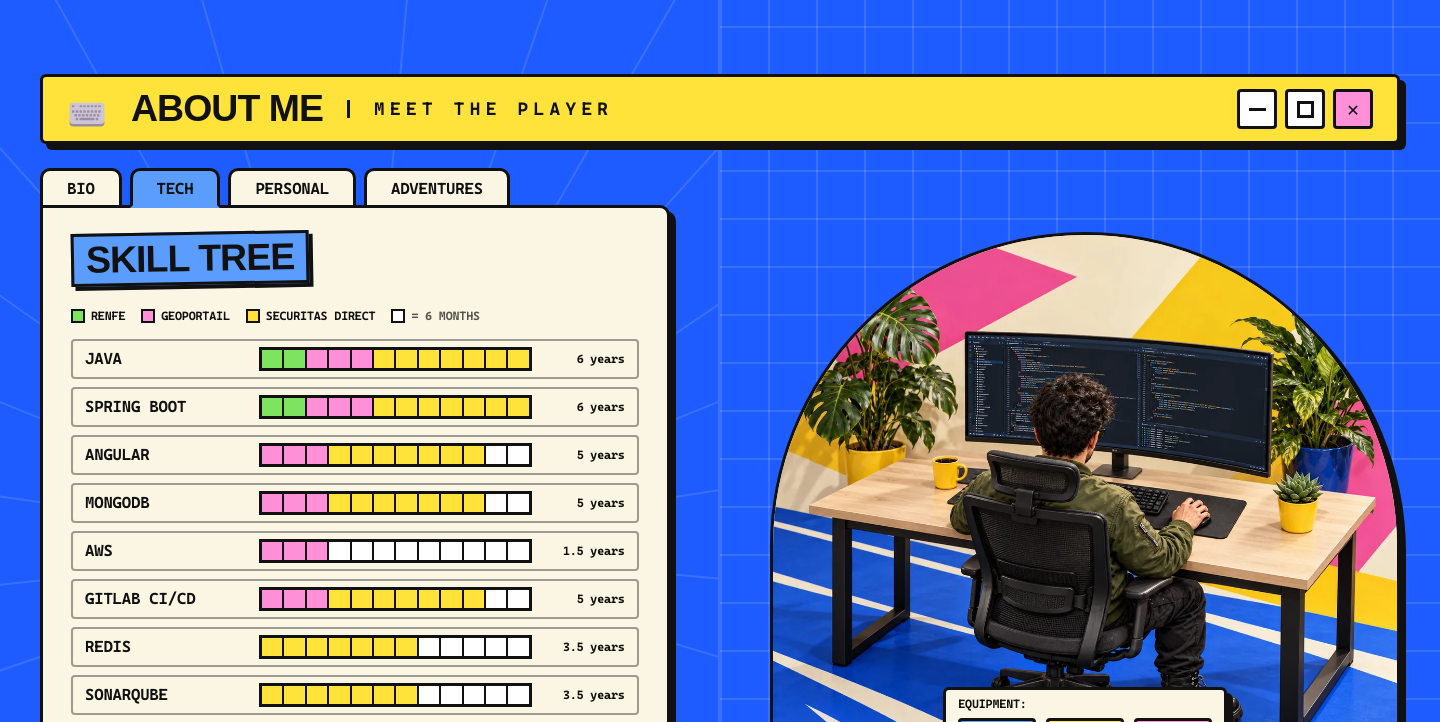
Test: opens on tech and switches panels from a tab click
Expected: the text "Java" is shown, [85, 349, 122, 368]
Step 1. Click the tab "Personal" → (292, 188), box [228, 168, 356, 208]
(page scrolled)
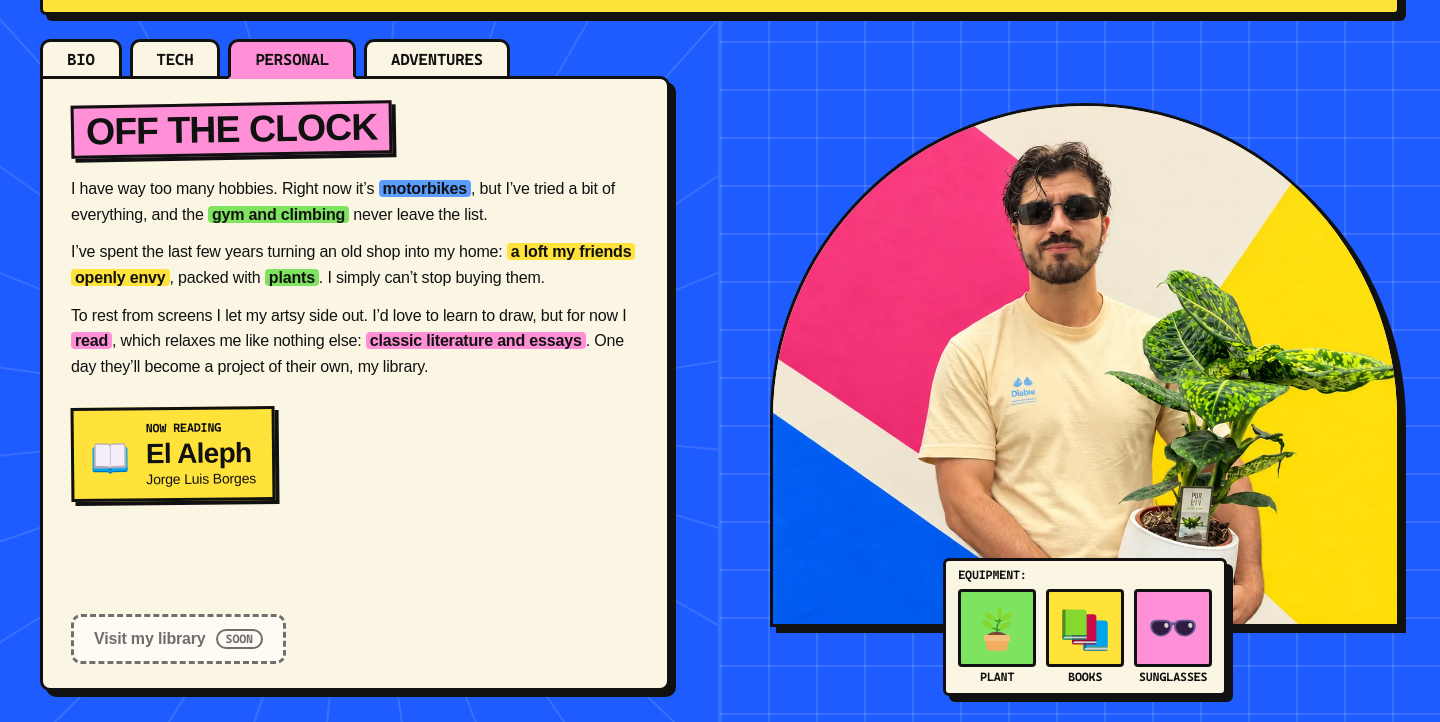
Expected: the panel named "Personal" shows "classic literature and essays", [370, 332, 582, 349]
